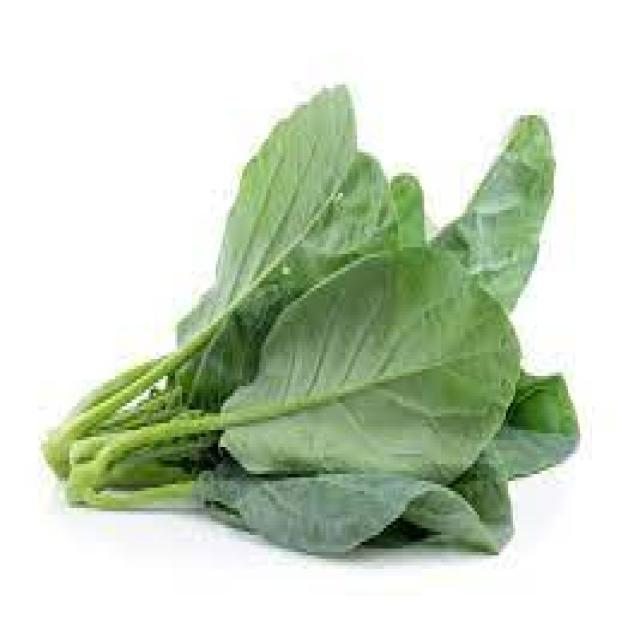collard: (38, 81, 581, 558)
